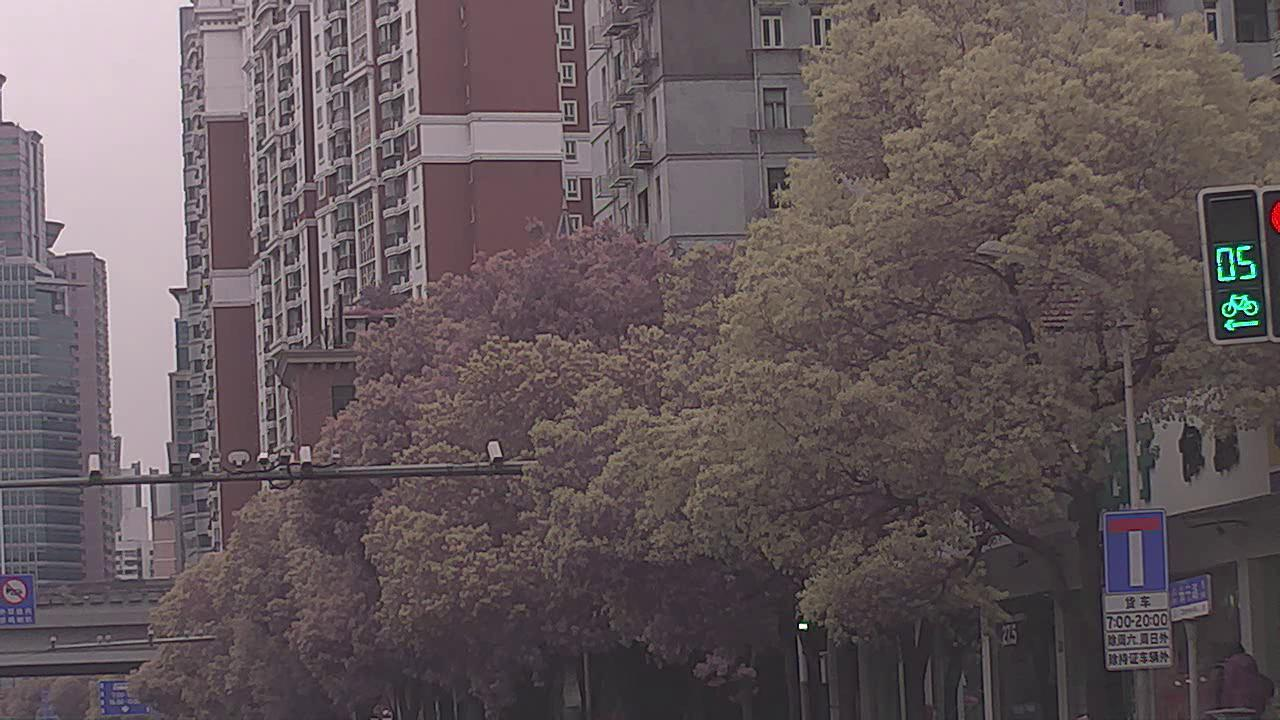traffic_light: (1203, 189, 1274, 343)
